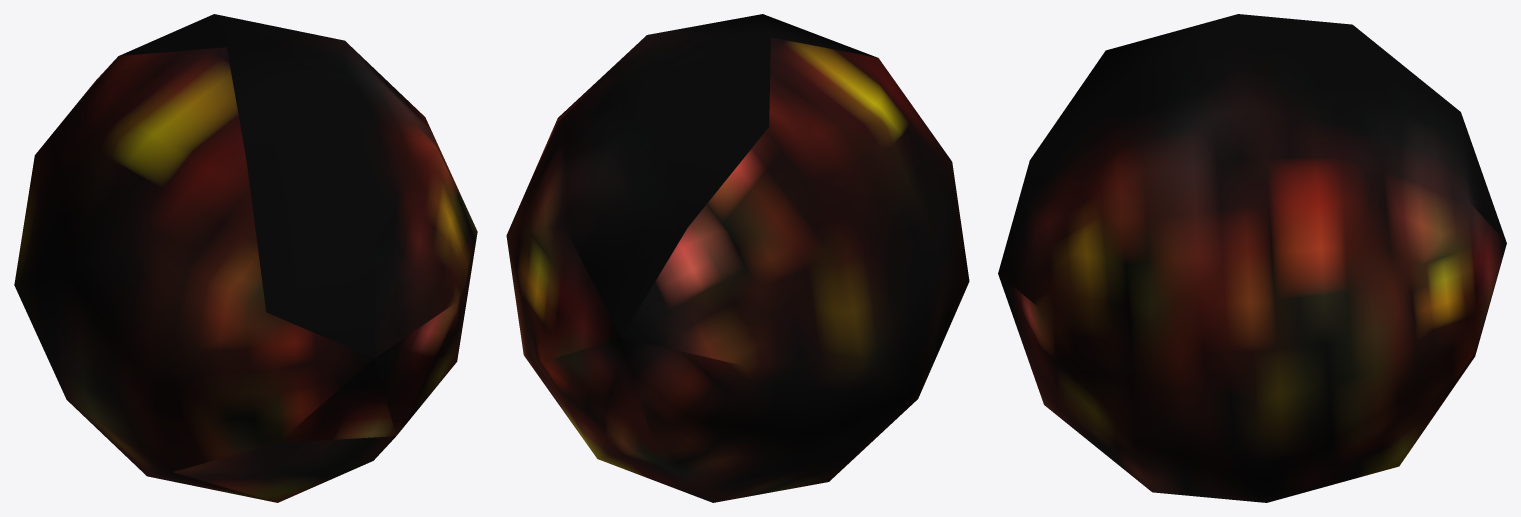
The model's file is datan_common_ExplodeAirBU-_3377aa93.obj.
The picture shows the model from 3 angles, left to right: view 1: azimuth 30°, elevation 25°; view 2: azimuth 150°, elevation 25°; view 3: azimuth 270°, elevation 25°; orthographic projection. The views are drawn at different scales.
Visible parts, largest first — view 1: datan_common_ExplodeAirBU-_3377aa93; view 2: datan_common_ExplodeAirBU-_3377aa93; view 3: datan_common_ExplodeAirBU-_3377aa93.
Boxes of the visible parts, x1=… form: datan_common_ExplodeAirBU-_3377aa93: x1=14, y1=14, x2=477, y2=502; datan_common_ExplodeAirBU-_3377aa93: x1=506, y1=14, x2=969, y2=502; datan_common_ExplodeAirBU-_3377aa93: x1=998, y1=14, x2=1506, y2=502.
Size of the model in its own units: 0.1157 by 0.1256 by 0.1253.
1 material, 1 textured.
